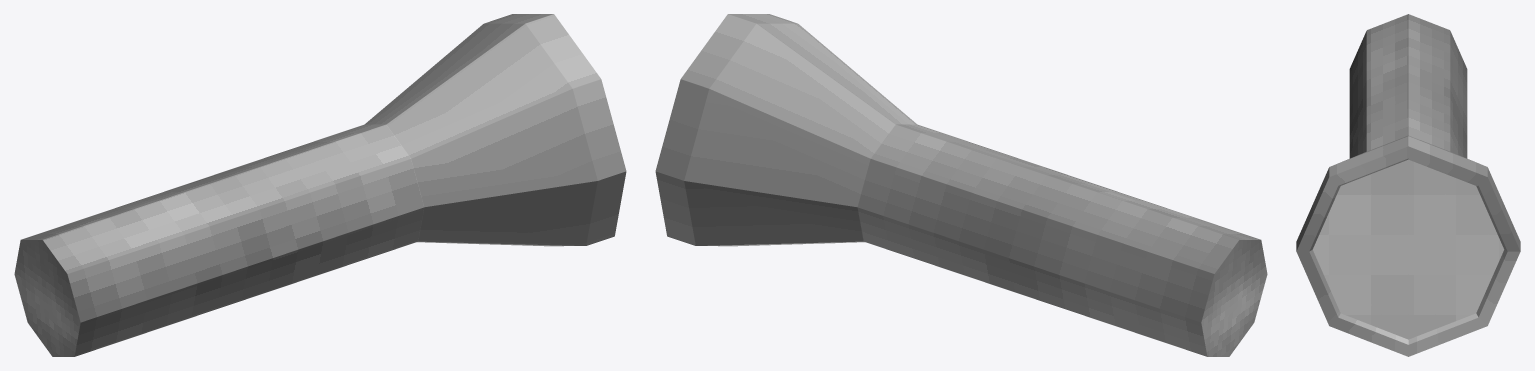
The model's file is flashlight.glb.
The picture shows the model from 3 angles, left to right: view 1: azimuth 30°, elevation 25°; view 2: azimuth 150°, elevation 25°; view 3: azimuth 270°, elevation 25°; orthographic projection. The views are drawn at different scales.
Visible parts, largest first — view 1: flashlight; view 2: flashlight; view 3: flashlight.
Part boxes in pixels (x1,y1,x2,y2): flashlight: (14, 14, 626, 356); flashlight: (655, 14, 1267, 356); flashlight: (1296, 14, 1520, 356).
Bounding box in the file's own units: 1.84 × 0.7623 × 0.7565.
Materials: 1 (1 with a texture image).
